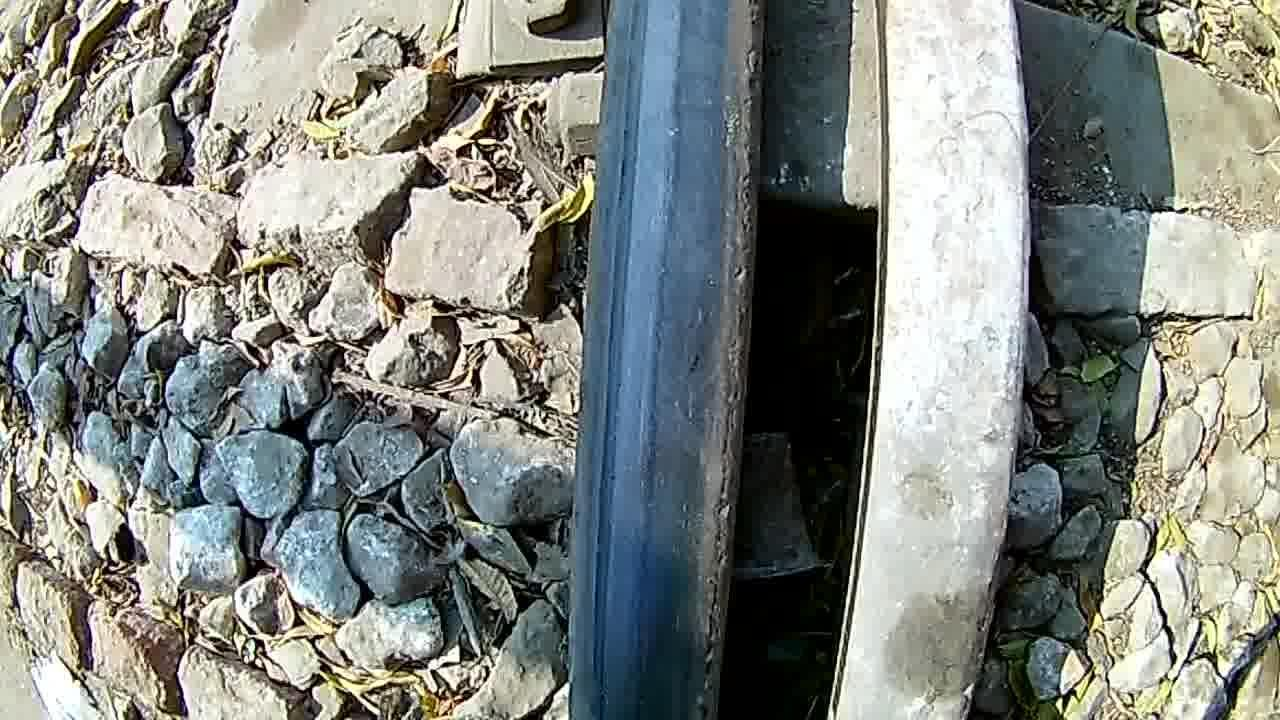crack: (560, 0, 771, 720)
